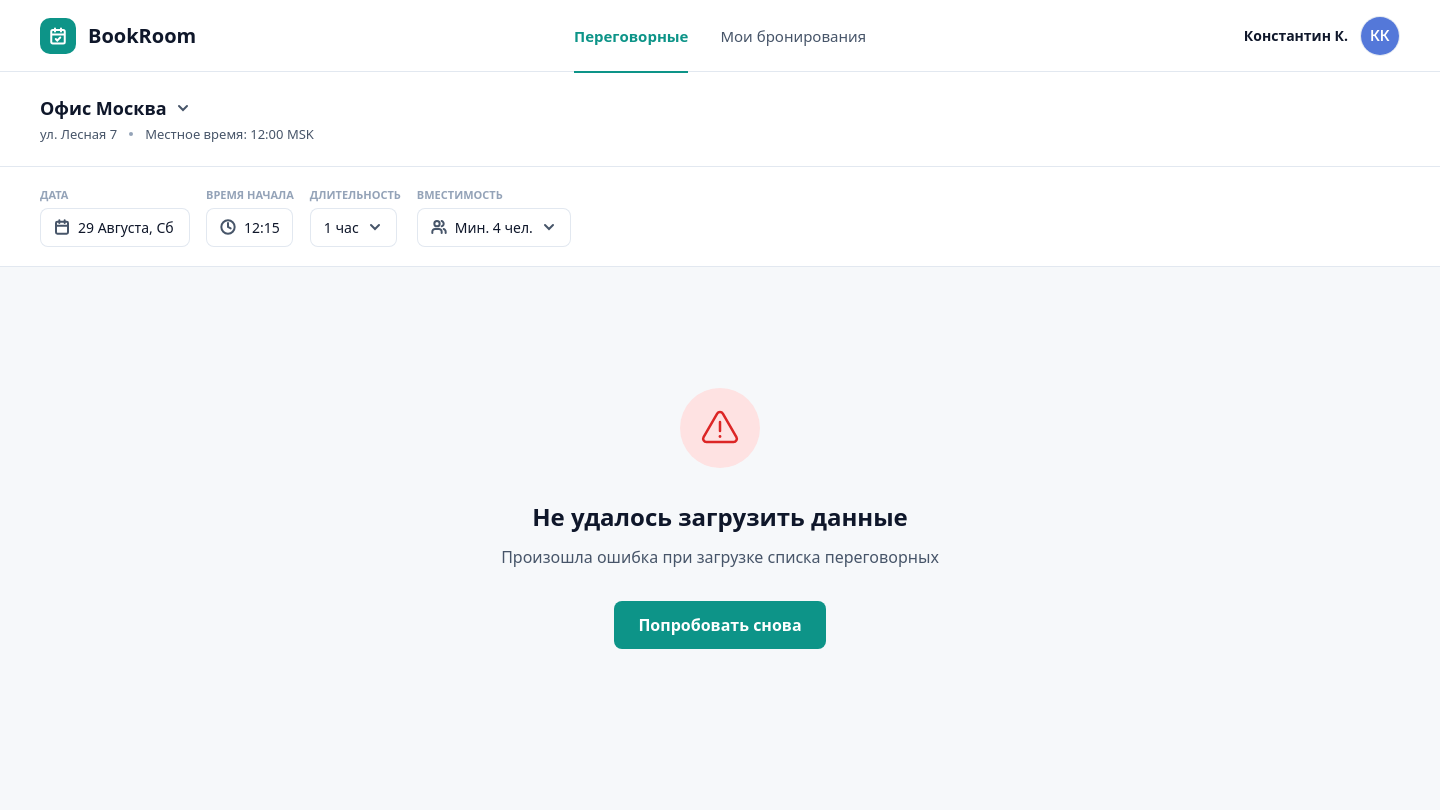
Test: App layout › показывает ошибку загрузки переговорных и позволяет повторить запрос
Check: the message shows "Не удалось загрузить данные", box [532, 500, 908, 533]
Check: the message shows "Произошла ошибка при загрузке списка переговорных", box [501, 546, 939, 568]
Click the button "Попробовать снова". click: (720, 625)
box: [614, 601, 826, 649]
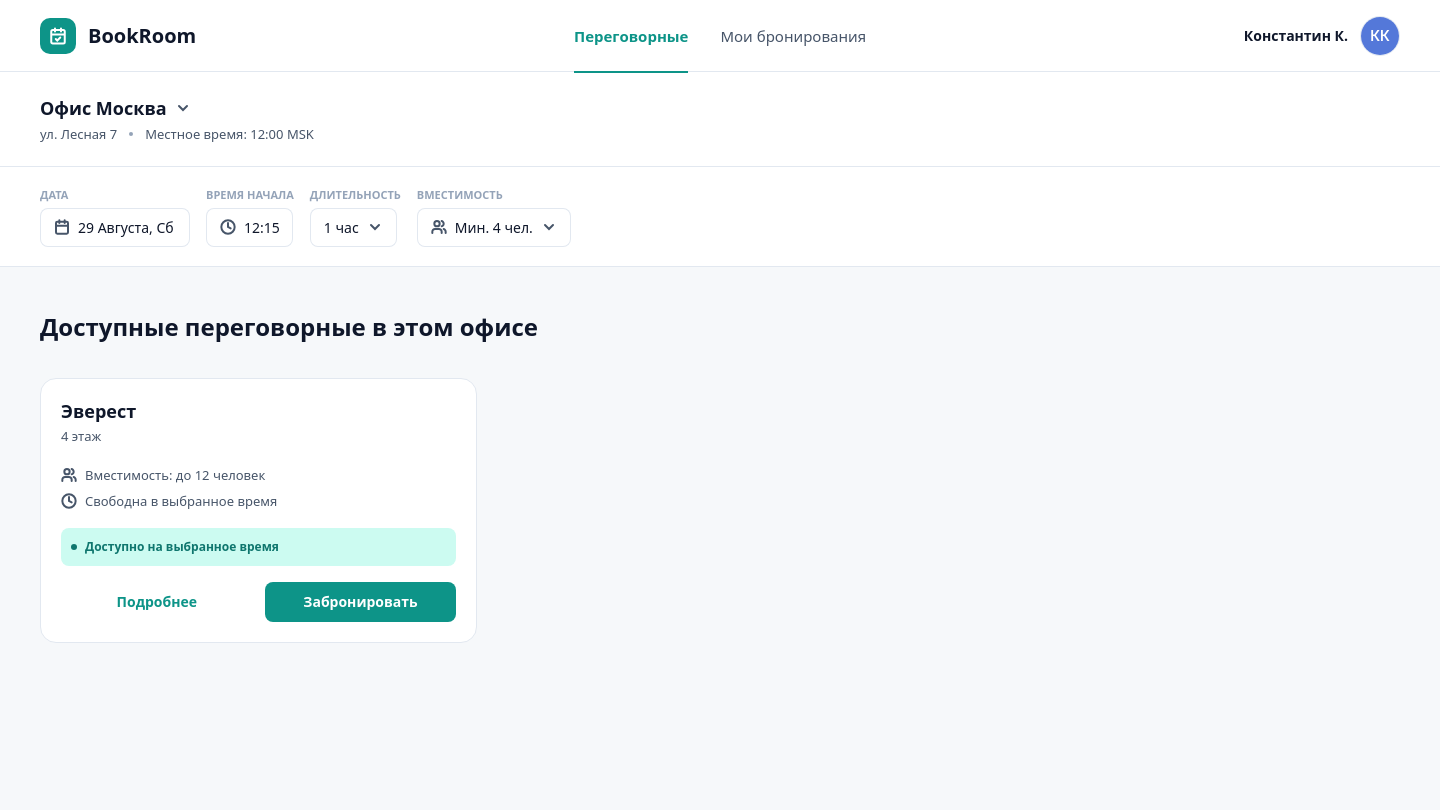
Check: the heading "Доступные переговорные в этом офисе" is shown, box [40, 310, 538, 343]
